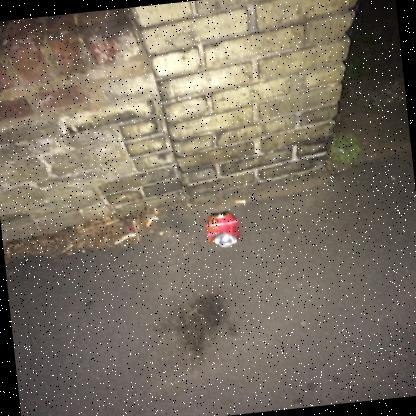Cigarette: (146, 218, 153, 226), (235, 200, 245, 203)
Drink can: (205, 211, 239, 247)
